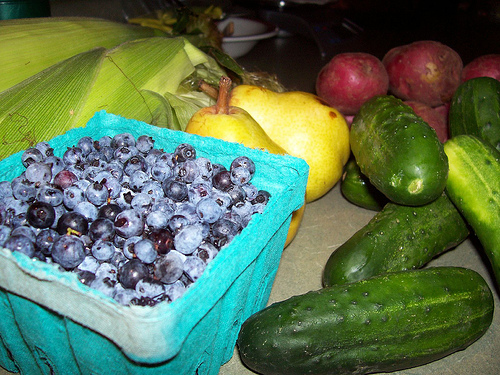cucumber: (236, 264, 496, 373), (349, 92, 449, 206), (444, 130, 499, 278)
